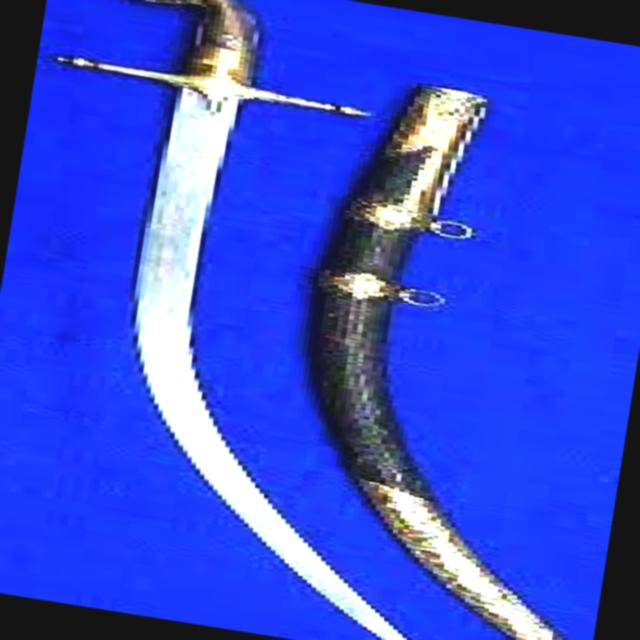long sword: (0, 0, 581, 640), (245, 61, 640, 640)
